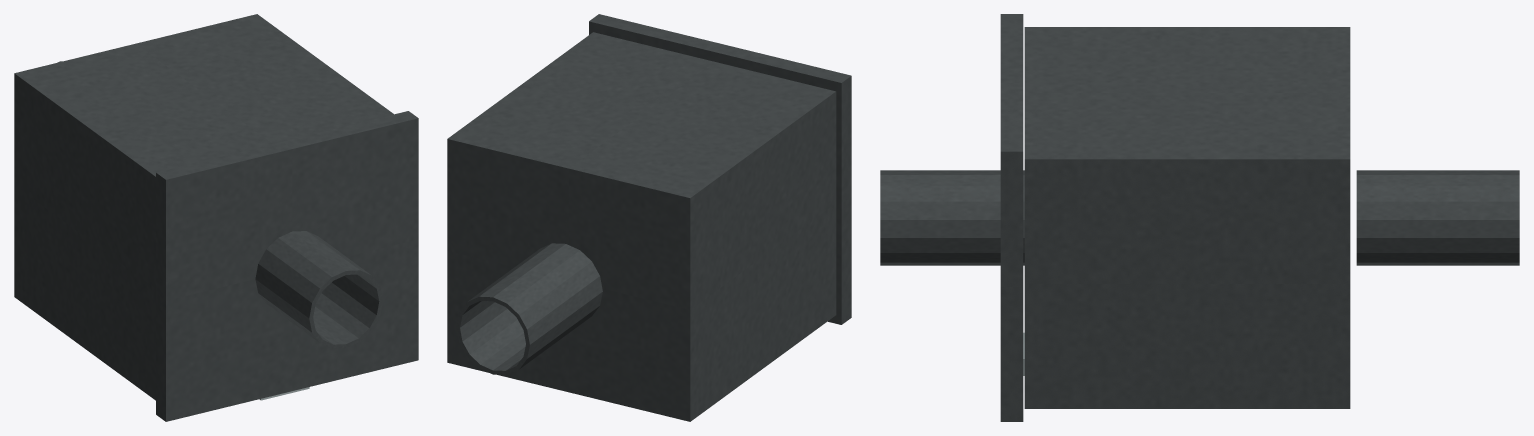
The model's file is Leaf_Filter_Inline.glb.
3 renders of one model, left to right at view 1: azimuth 30°, elevation 25°; view 2: azimuth 150°, elevation 25°; view 3: azimuth 270°, elevation 25°, orthographic. The views are drawn at different scales.
Parts seen in each view (by area): view 1: Filter_Housing_Shell, Removable_Filter_Cover, Upper_Inlet_75mm; view 2: Filter_Housing_Shell, Lower_Outlet_75mm, Removable_Filter_Cover; view 3: Filter_Housing_Shell, Lower_Outlet_75mm, Upper_Inlet_75mm, Removable_Filter_Cover.
Boxes of the visible parts, x1,y1,x2,y2 form: Filter_Housing_Shell: (14,14,393,400); Removable_Filter_Cover: (156,111,418,421); Upper_Inlet_75mm: (255,231,382,348); Filter_Housing_Shell: (447,32,836,421); Lower_Outlet_75mm: (456,243,602,374); Removable_Filter_Cover: (589,14,851,324); Filter_Housing_Shell: (1024,27,1350,408); Lower_Outlet_75mm: (1356,170,1519,265); Upper_Inlet_75mm: (880,170,1024,265); Removable_Filter_Cover: (1000,14,1023,421).
Bounding box in the file's own units: 0.26 × 0.2465 × 0.51.
4 materials, 4 textured.
